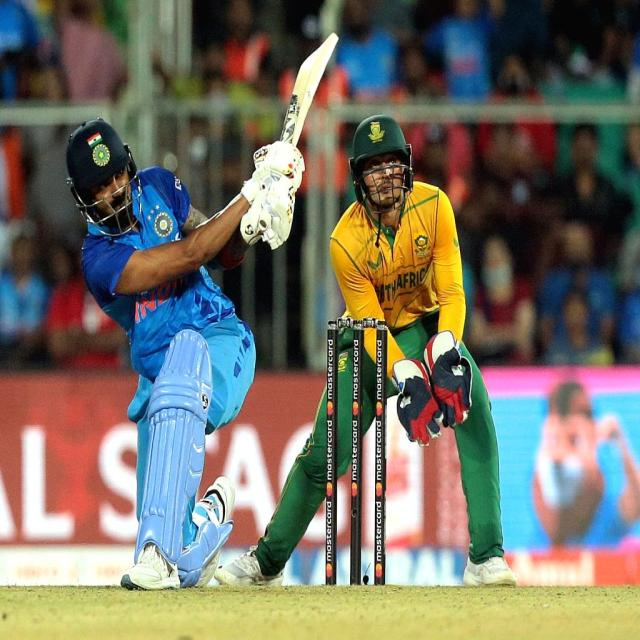stump: (324, 317, 389, 587)
